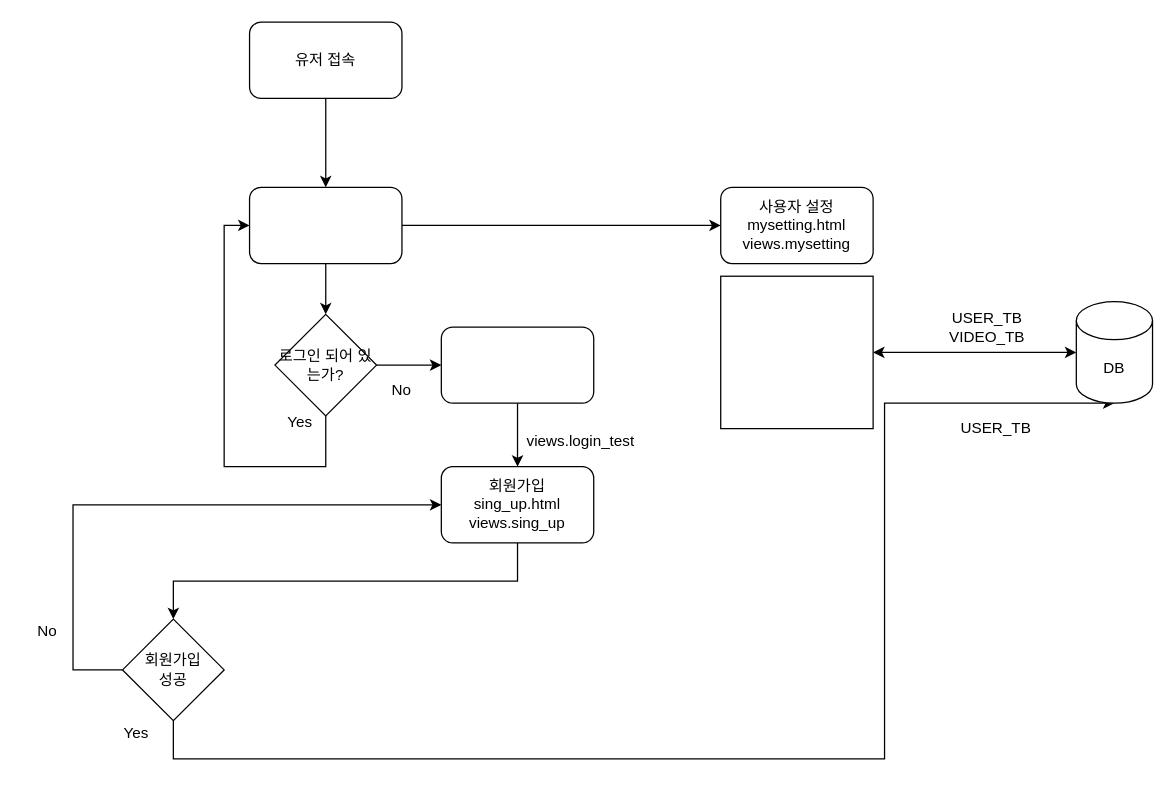
Some shapes in this 1175 by 791 pixel diagram are drawn without their labels. The shapes that lost their labels are listed below. From the top down, each one's centre as x and y in pixels, then its label:
At (x=325, y=225): "Main.html views.main views.update".
At (x=517, y=364): "로그인 login.html views.login".
At (x=796, y=352): "URL 추가".
